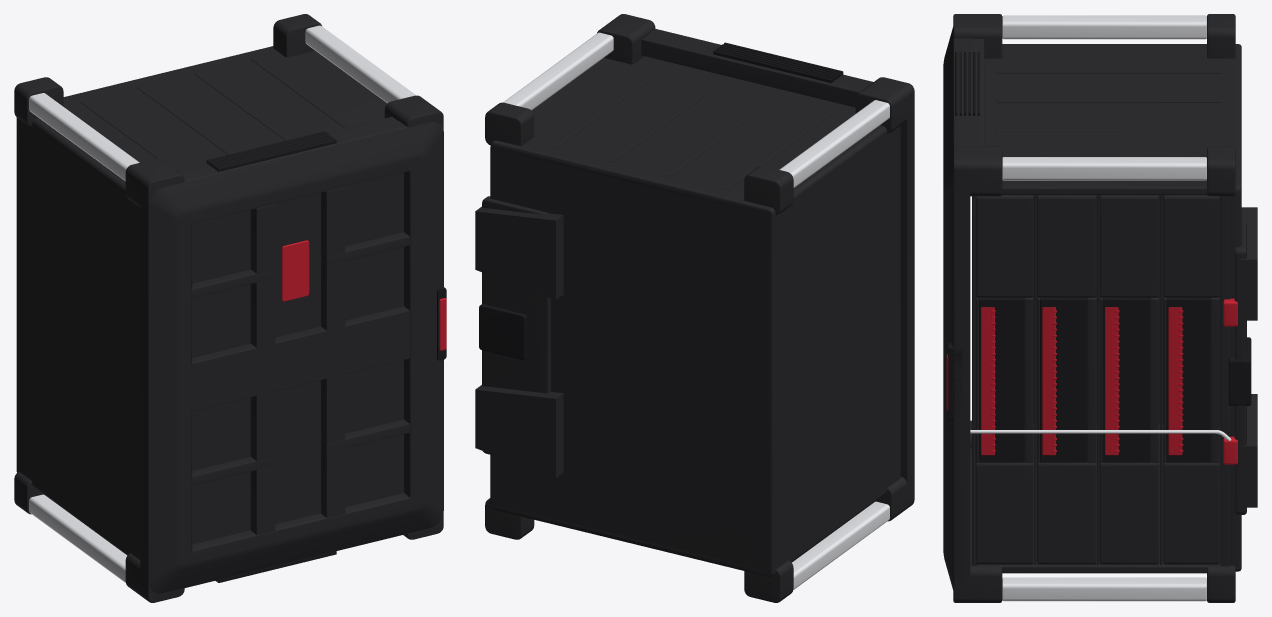
The picture shows the model from 3 angles, left to right: view 1: azimuth 30°, elevation 25°; view 2: azimuth 150°, elevation 25°; view 3: azimuth 270°, elevation 25°; orthographic projection. The views are drawn at different scales.
Visible parts, largest first — view 1: vicko_plast, telo_zada, telo_bok, vicko_zebro11, madlo_trubka (×3), vicko_ucho (×3), telo_roh_dolni (×3), telo_zebro (×4), vicko_zebro19, vicko_zebro8, vicko_zebro2, vicko_zebro13 (+12 smaller); view 2: telo_dno, telo_zada, telo_bok (×2), sokl_noha (×2), madlo_trubka (×3), telo_roh_dolni (×4), vicko_plast, sokl_deska, vicko_suknice, vicko_ucho (×3), telo_zebro (×4), sokl_stred (+2 smaller); view 3: telo_bok (×2), zasuvka_celo_L (×4), zasuvka_celo_P (×4), zasuvka_prolis (×4), madlo_trubka (×3), vicko_plast, zasuvka_drzadlo (×4), zasuvka_celo_dolni (×4), vicko_ucho (×3), celo_sloupek (×2), telo_roh_dolni (×3), celo_dolni (+12 smaller).
Part boxes in pixels (x1,y1,x2,y2): vicko_plast: [140, 121, 443, 593]; telo_zada: [16, 117, 140, 559]; telo_bok: [32, 46, 385, 192]; vicko_zebro11: [191, 306, 410, 411]; madlo_trubka (×3): [29, 25, 415, 582]; vicko_ucho (×3): [125, 95, 443, 602]; telo_roh_dolni (×3): [14, 14, 321, 514]; telo_zebro (×4): [79, 57, 351, 169]; vicko_zebro19: [250, 204, 275, 273]; vicko_zebro8: [250, 391, 275, 460]; vicko_zebro2: [250, 465, 275, 534]; vicko_zebro13: [250, 278, 275, 347]; telo_dno: [490, 141, 777, 576]; telo_zada: [765, 127, 899, 576]; telo_bok (×2): [490, 56, 886, 576]; sokl_noha (×2): [475, 206, 563, 477]; madlo_trubka (×3): [503, 32, 889, 589]; telo_roh_dolni (×4): [485, 102, 793, 602]; vicko_plast: [648, 29, 914, 489]; sokl_deska: [482, 196, 550, 456]; vicko_suknice: [641, 34, 866, 107]; vicko_ucho (×3): [597, 14, 914, 521]; telo_zebro (×4): [550, 67, 835, 190]; sokl_stred: [479, 304, 526, 359]; telo_bok (×2): [979, 44, 1241, 571]; zasuvka_celo_L (×4): [976, 462, 1219, 564]; zasuvka_celo_P (×4): [976, 195, 1219, 297]; zasuvka_prolis (×4): [979, 298, 1210, 462]; madlo_trubka (×3): [1002, 15, 1206, 601]; vicko_plast: [943, 27, 970, 589]; zasuvka_drzadlo (×4): [981, 307, 1182, 455]; zasuvka_celo_dolni (×4): [1024, 297, 1219, 462]; vicko_ucho (×3): [953, 14, 1002, 602]; celo_sloupek (×2): [979, 184, 1219, 573]; telo_roh_dolni (×3): [1207, 14, 1235, 602]; celo_dolni: [1220, 196, 1230, 566].
Size of the model in its own units: 414 by 564 by 363.
